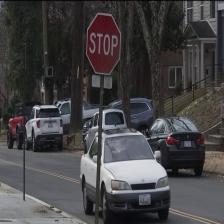Stop-sign: (83, 4, 126, 86)
